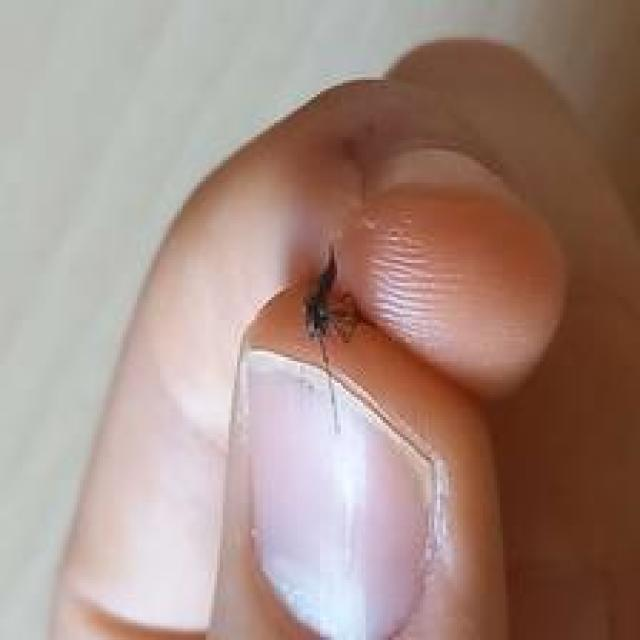Aedes albopictus: (300, 243, 363, 434)
